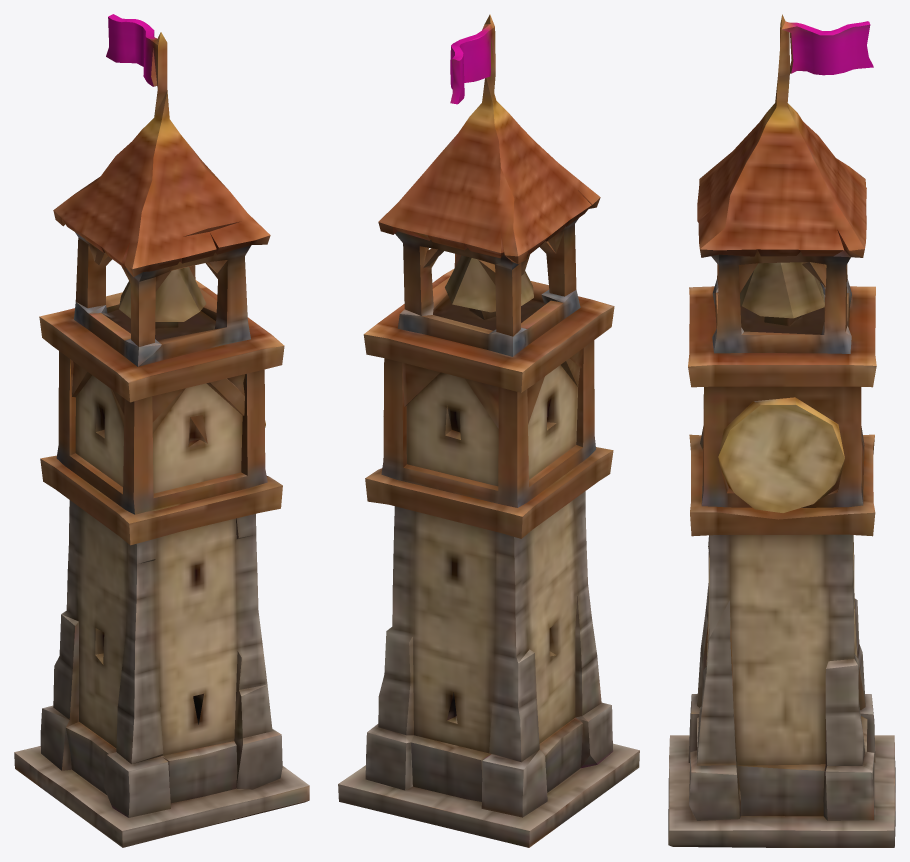
File: clock.lod2.glb
3 renders of one model, left to right at view 1: azimuth 30°, elevation 25°; view 2: azimuth 150°, elevation 25°; view 3: azimuth 270°, elevation 25°, orthographic. The views are drawn at different scales.
Visible parts, largest first — view 1: clock.lod2_uv; view 2: clock.lod2_uv; view 3: clock.lod2_uv.
Part boxes in pixels (x1,y1,x2,y2): clock.lod2_uv: (14,14,309,847); clock.lod2_uv: (338,14,639,847); clock.lod2_uv: (668,14,895,847).
Size of the model in its own units: 0.4988 by 1.9 by 0.4988.
Materials: 1 (1 with a texture image).
